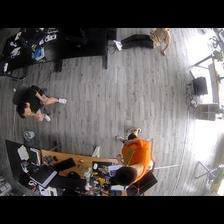fall: (113, 28, 174, 57)
normal: (113, 125, 156, 186), (13, 83, 66, 127)
